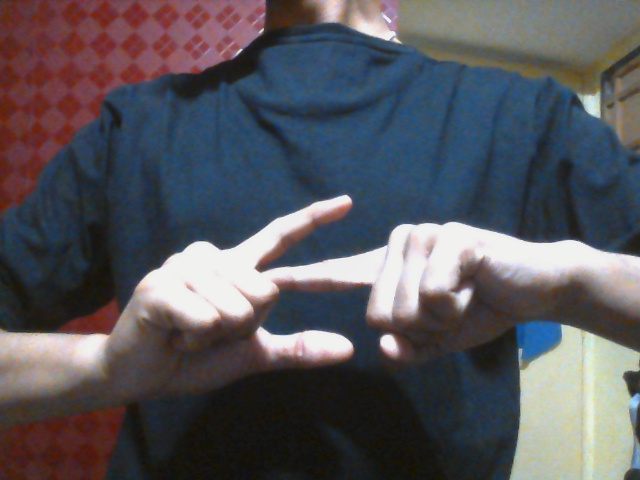E: (136, 193, 508, 400)
